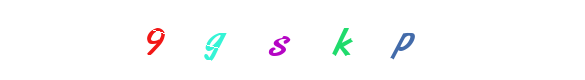9: (115, 0, 195, 80)
G: (237, 0, 317, 80)
K: (252, 0, 332, 80)
P: (363, 0, 443, 80)
S: (239, 0, 319, 80)
